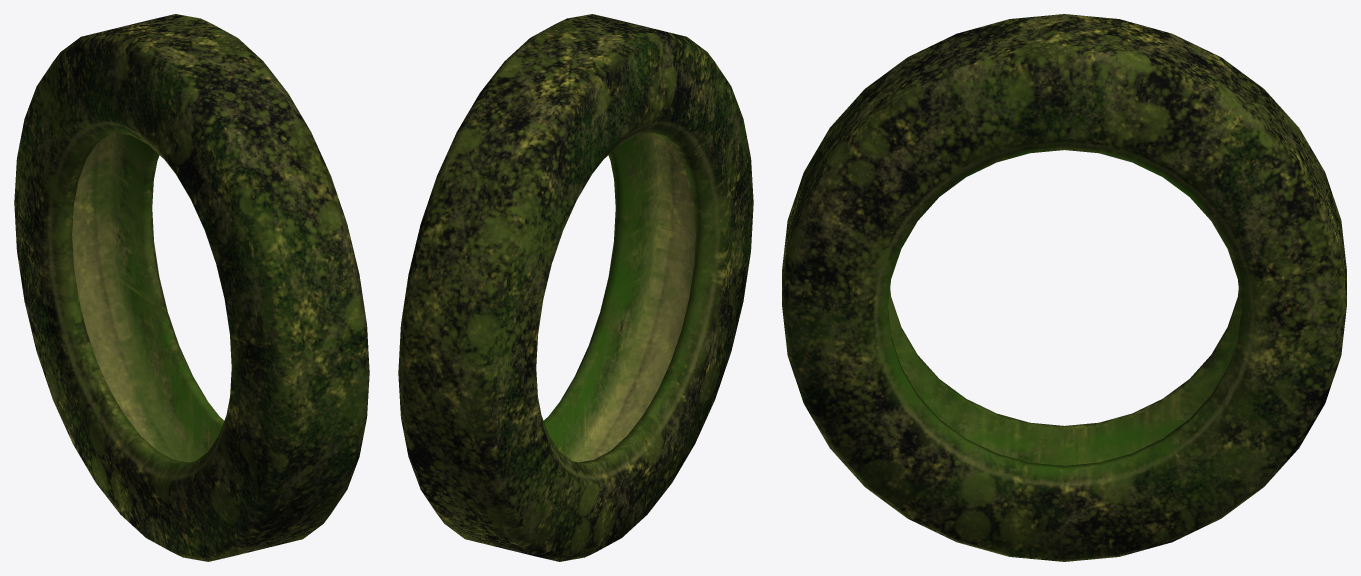
The model's file is Tire.fbx.
3 views of the same model, side by side, from view 1: azimuth 30°, elevation 25°; view 2: azimuth 150°, elevation 25°; view 3: azimuth 270°, elevation 25° (orthographic). The views are drawn at different scales.
Parts seen in each view (by area): view 1: TireL; view 2: TireL; view 3: TireL.
Part boxes in pixels (<box>): TireL: <box>14,14,369,561</box>; TireL: <box>398,14,753,561</box>; TireL: <box>782,14,1346,561</box>.
Bounding box in the file's own units: 13.35 × 56.46 × 56.46.
